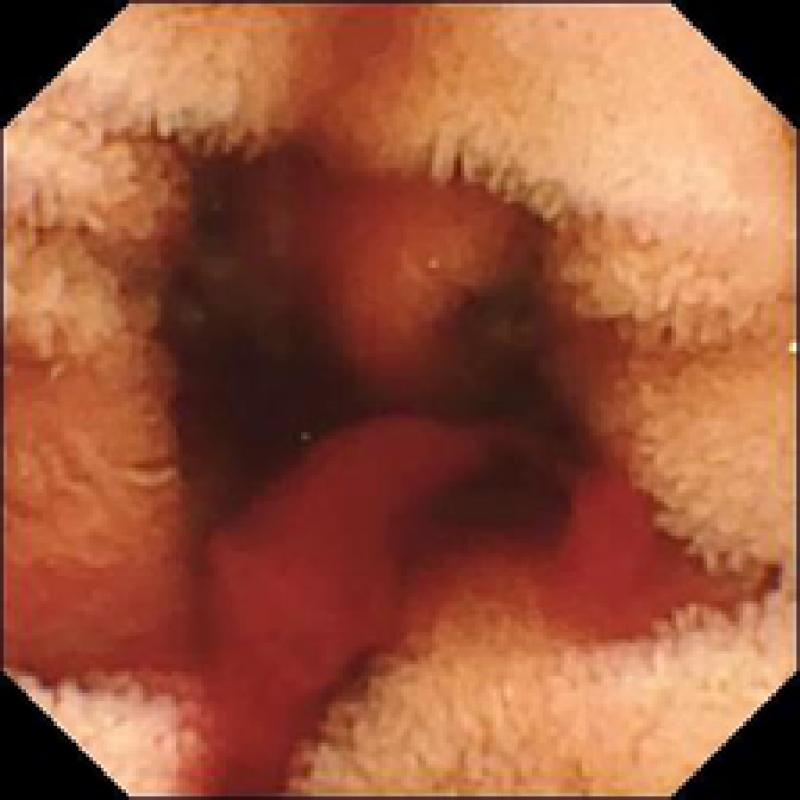bleeding: (50, 422, 679, 796)
